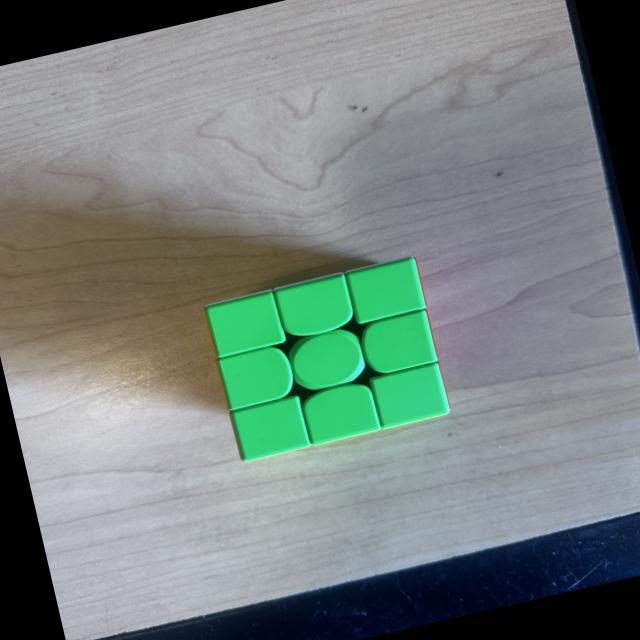sticker: (282, 322, 370, 396), (202, 288, 289, 362), (272, 270, 360, 343), (342, 254, 428, 328), (214, 340, 300, 413), (354, 307, 440, 378), (298, 376, 382, 446), (230, 394, 312, 464), (368, 361, 450, 431)
